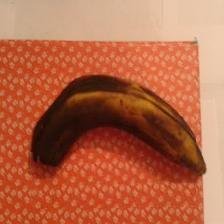Banana Rotten: (28, 67, 197, 209)
